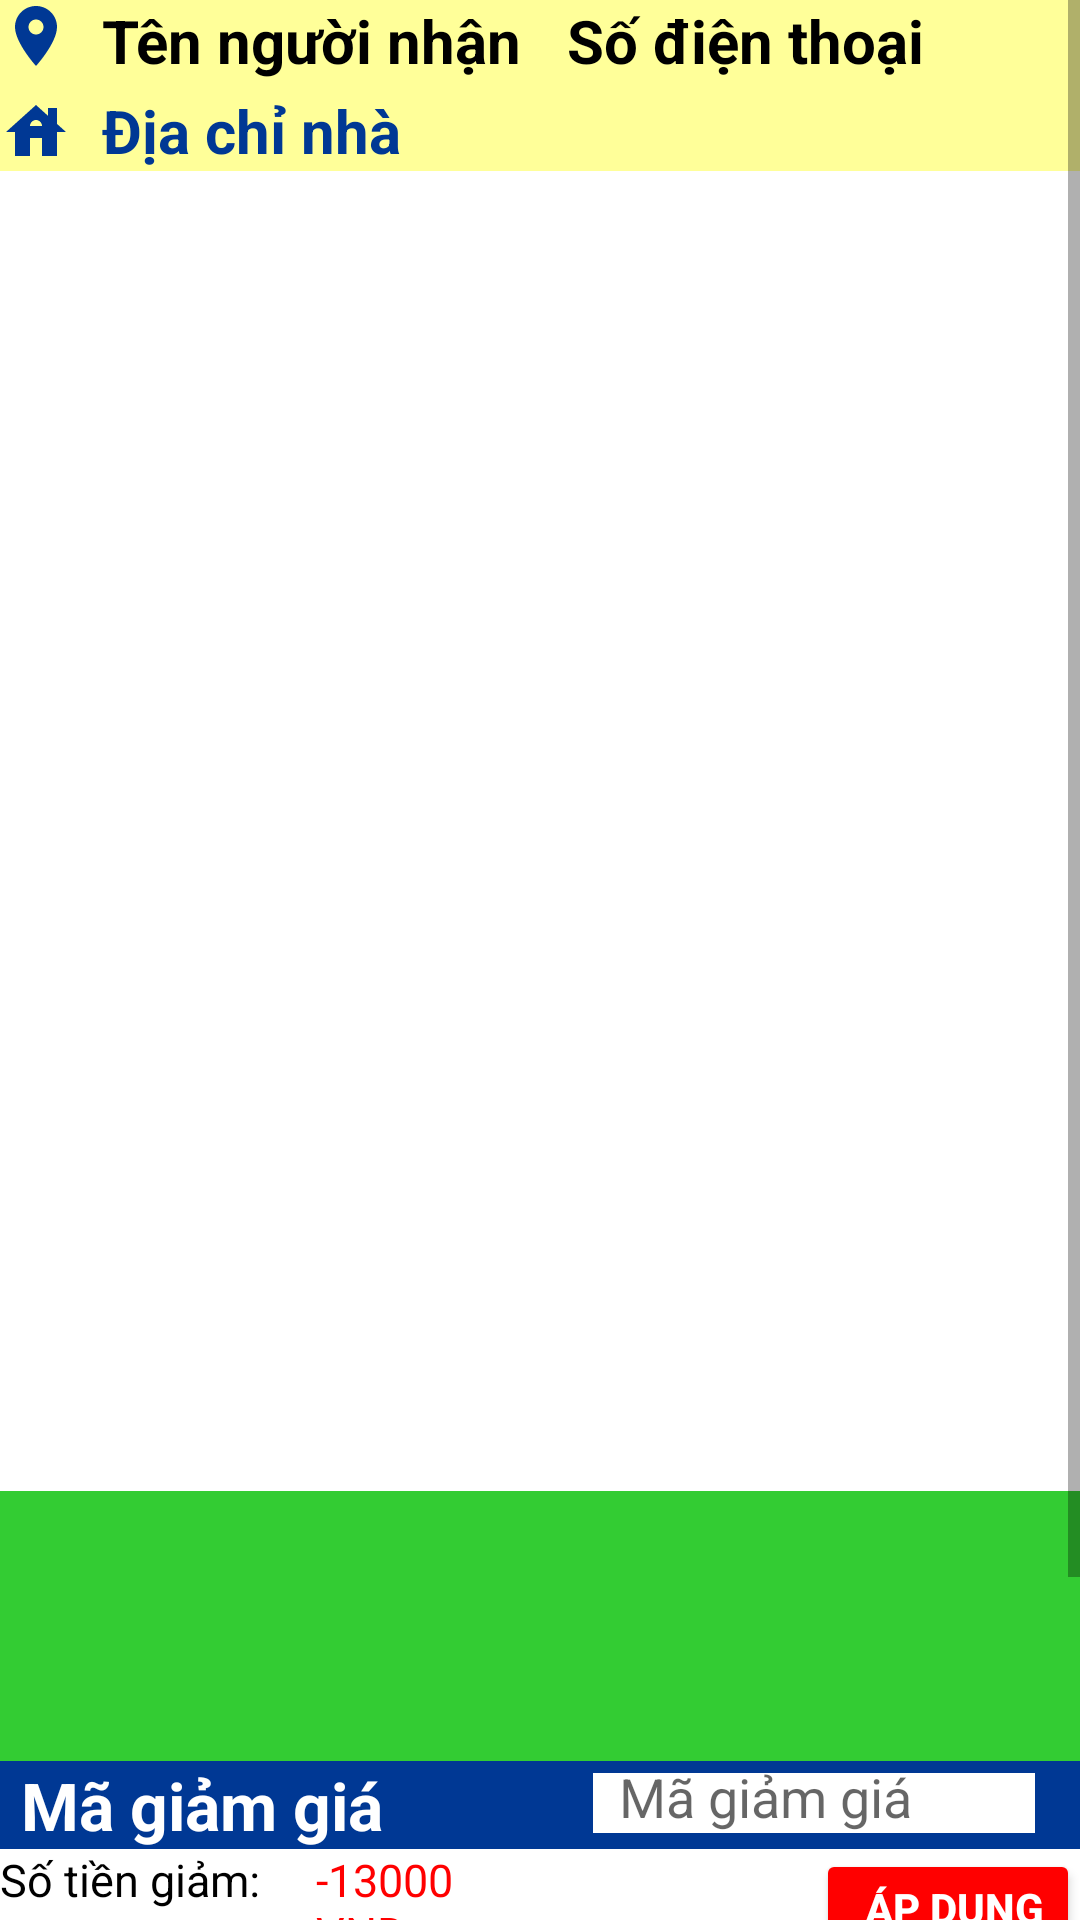

Where to tap for icons on this 1080*1920 app screen, as [x,y]:
house: [36,130]
location: [36,36]
